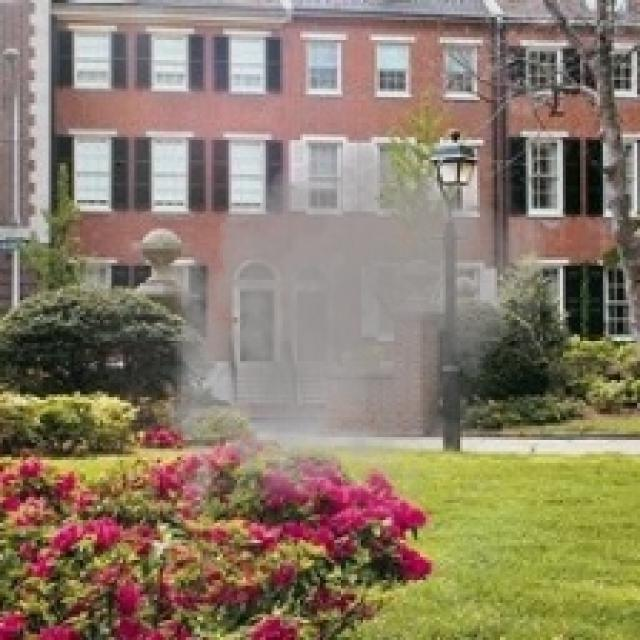smoke: (143, 120, 560, 540)
